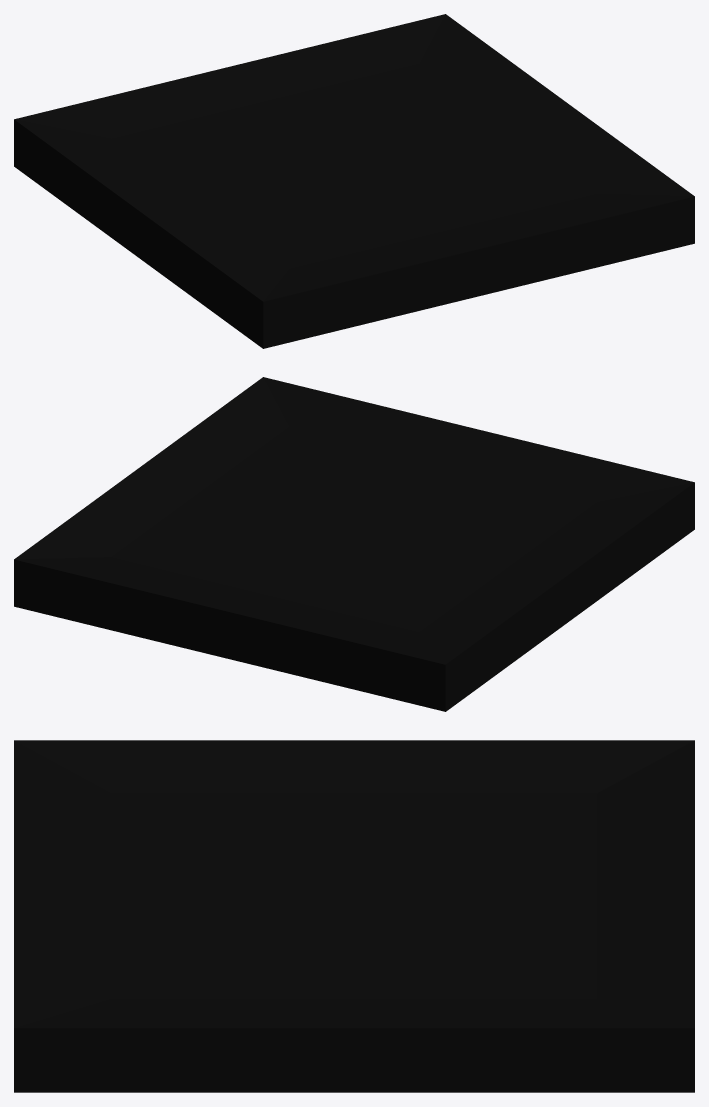
File: Itr_Chair1_Seat_05.FBX
3 renders of one model, top to bottom at view 1: azimuth 30°, elevation 25°; view 2: azimuth 150°, elevation 25°; view 3: azimuth 270°, elevation 25°, orthographic. The views are drawn at different scales.
Visible parts, largest first — view 1: Itr_Chair1_Seat_05; view 2: Itr_Chair1_Seat_05; view 3: Itr_Chair1_Seat_05.
Boxes of the visible parts, left/top/right/bottom form: Itr_Chair1_Seat_05: left=14, top=14, right=694, bottom=348; Itr_Chair1_Seat_05: left=14, top=377, right=694, bottom=711; Itr_Chair1_Seat_05: left=14, top=740, right=694, bottom=1092.
Size of the model in its own units: 23.52 by 2.9 by 23.52.
